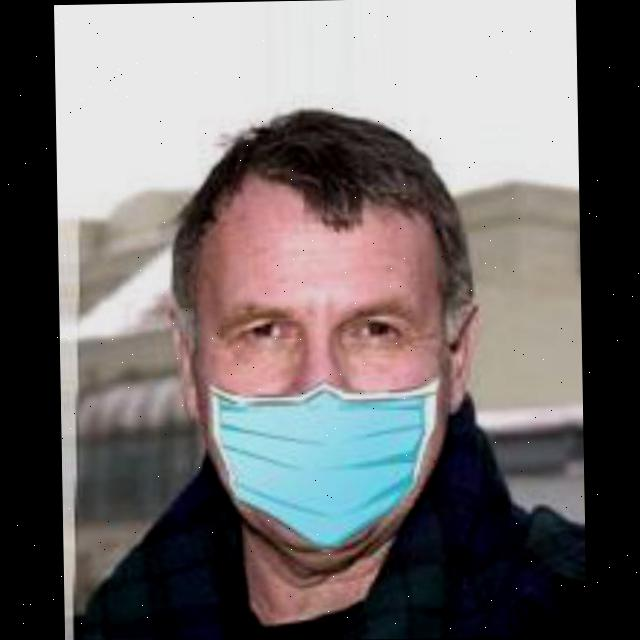suspicion: (155, 147, 504, 558)
